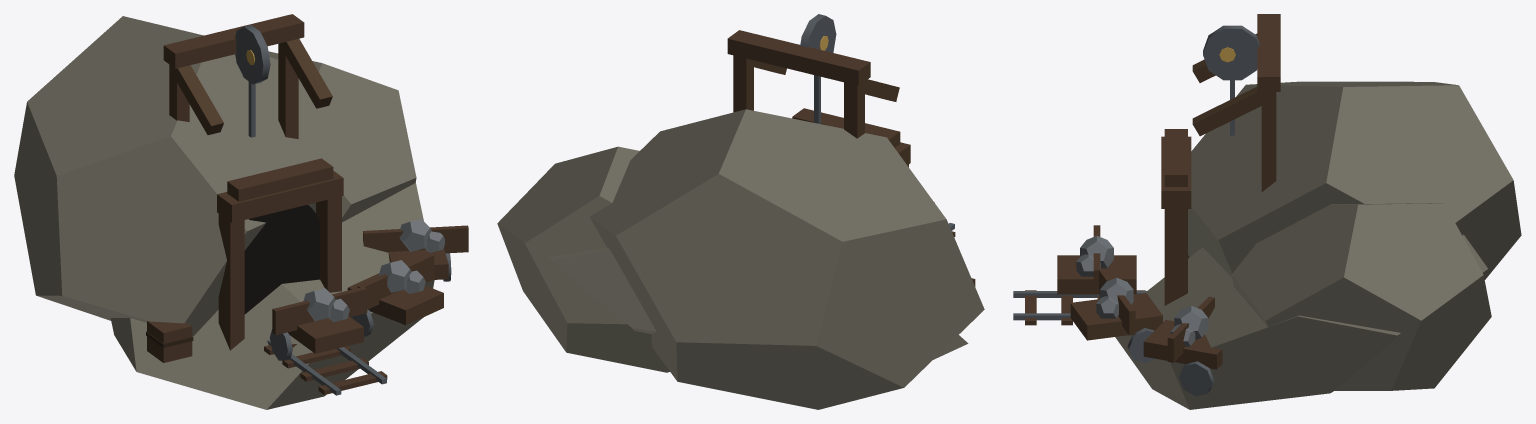
Rendered from mine-L2.glb.
3 views of the same model, side by side, from view 1: azimuth 30°, elevation 25°; view 2: azimuth 150°, elevation 25°; view 3: azimuth 270°, elevation 25° (orthographic).
Visible parts, largest first — view 1: building-mine-L2; view 2: building-mine-L2; view 3: building-mine-L2.
Boxes of the visible parts, x1,y1,x2,y2 form: building-mine-L2: [14, 14, 468, 409]; building-mine-L2: [497, 14, 984, 409]; building-mine-L2: [1013, 14, 1521, 409].
Bounding box in the file's own units: 2.69 × 2.24 × 2.98.
